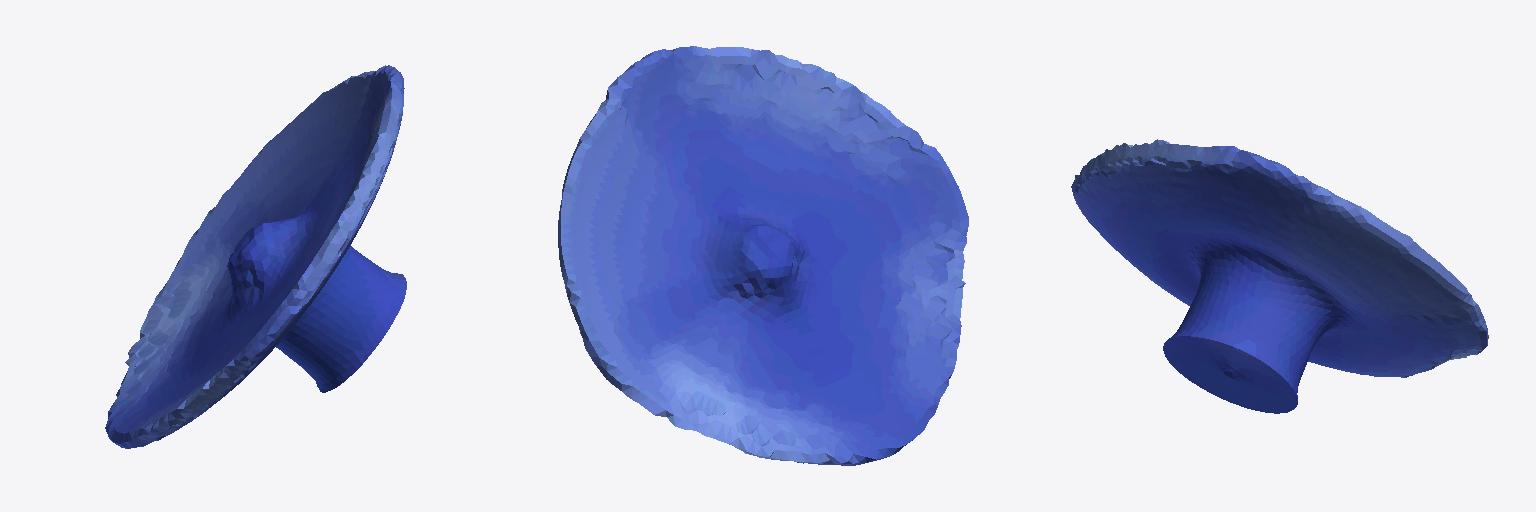
The model's file is colored_model_disk.obj.
3 views of the same model, side by side, from view 1: azimuth 30°, elevation 25°; view 2: azimuth 150°, elevation 25°; view 3: azimuth 270°, elevation 25° (orthographic).
Bounding box in the file's own units: 12.48 × 13.29 × 15.28.